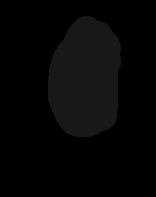fp: (46, 10, 121, 139)
